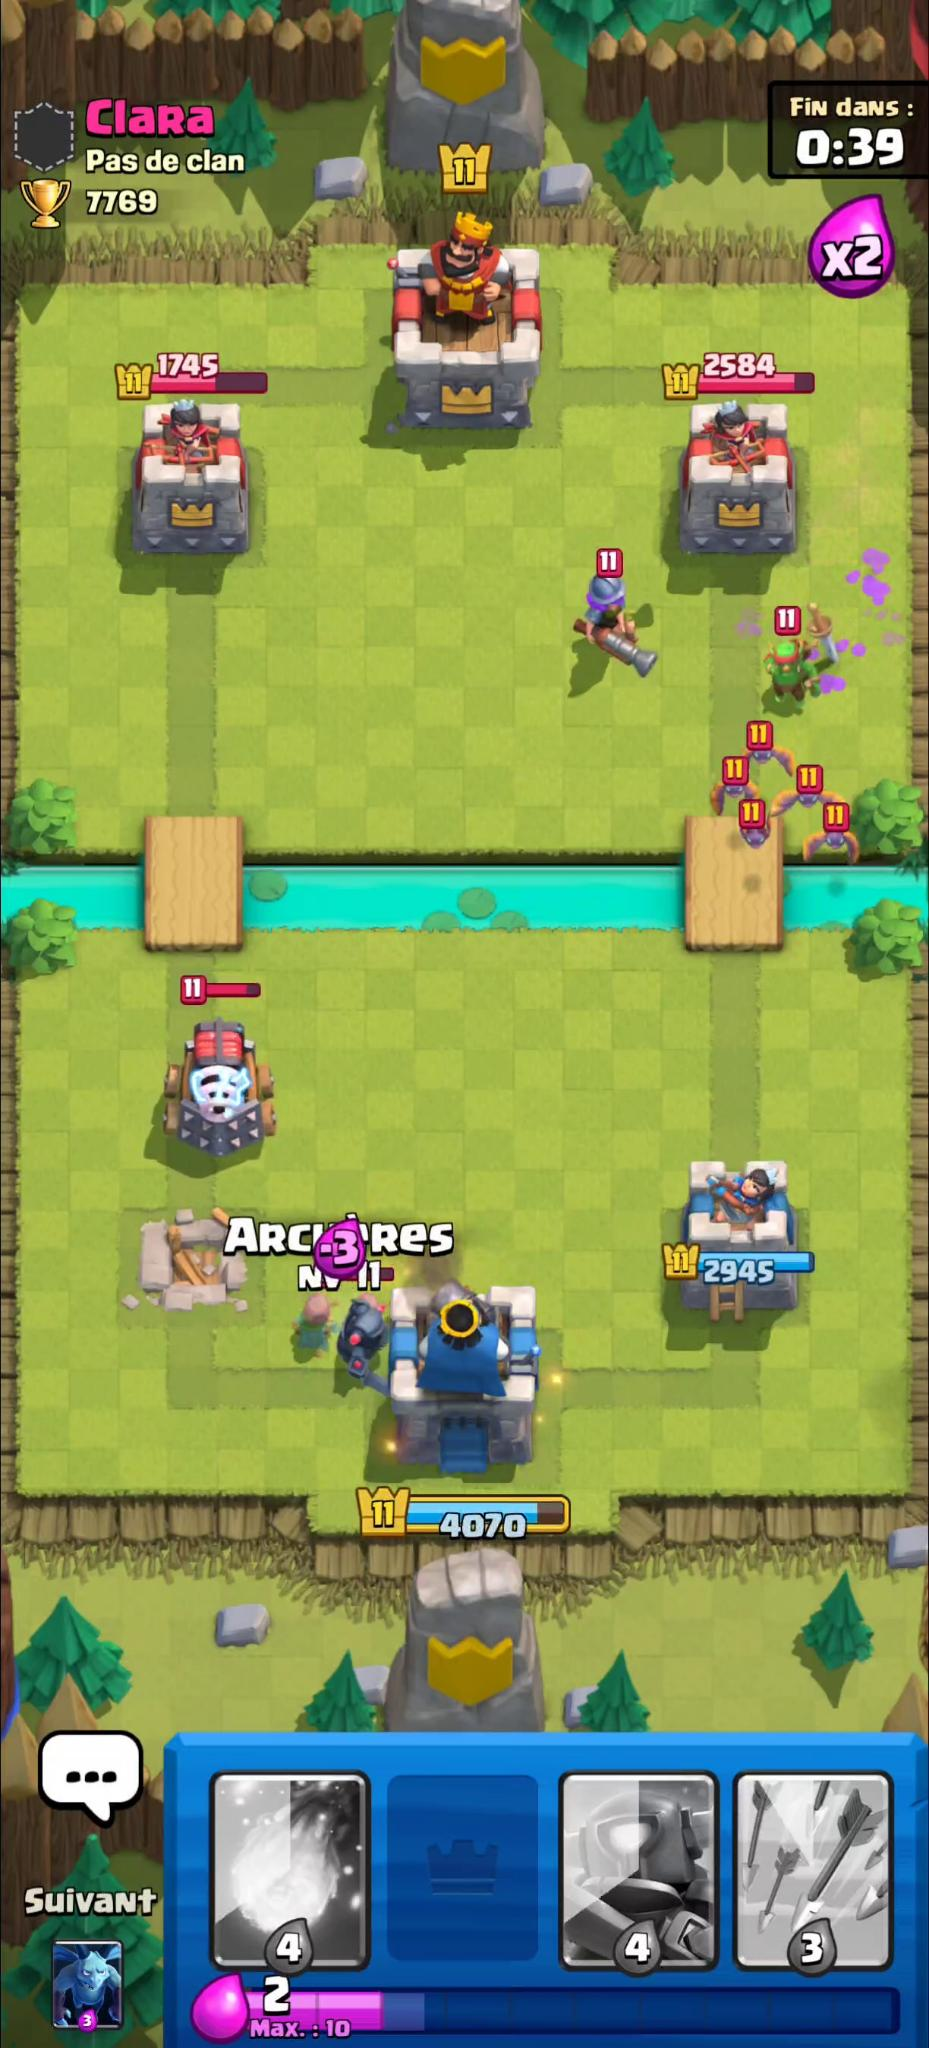archere: (291, 1292, 338, 1356)
bat: (770, 784, 853, 820), (745, 734, 801, 778), (709, 773, 762, 819), (804, 829, 864, 867), (740, 814, 775, 849)
gobelin_lances: (764, 639, 830, 705)
mini_PEKKA: (337, 1290, 395, 1396)
mousquetaire: (575, 569, 661, 678)
zappy: (162, 1017, 282, 1160)
